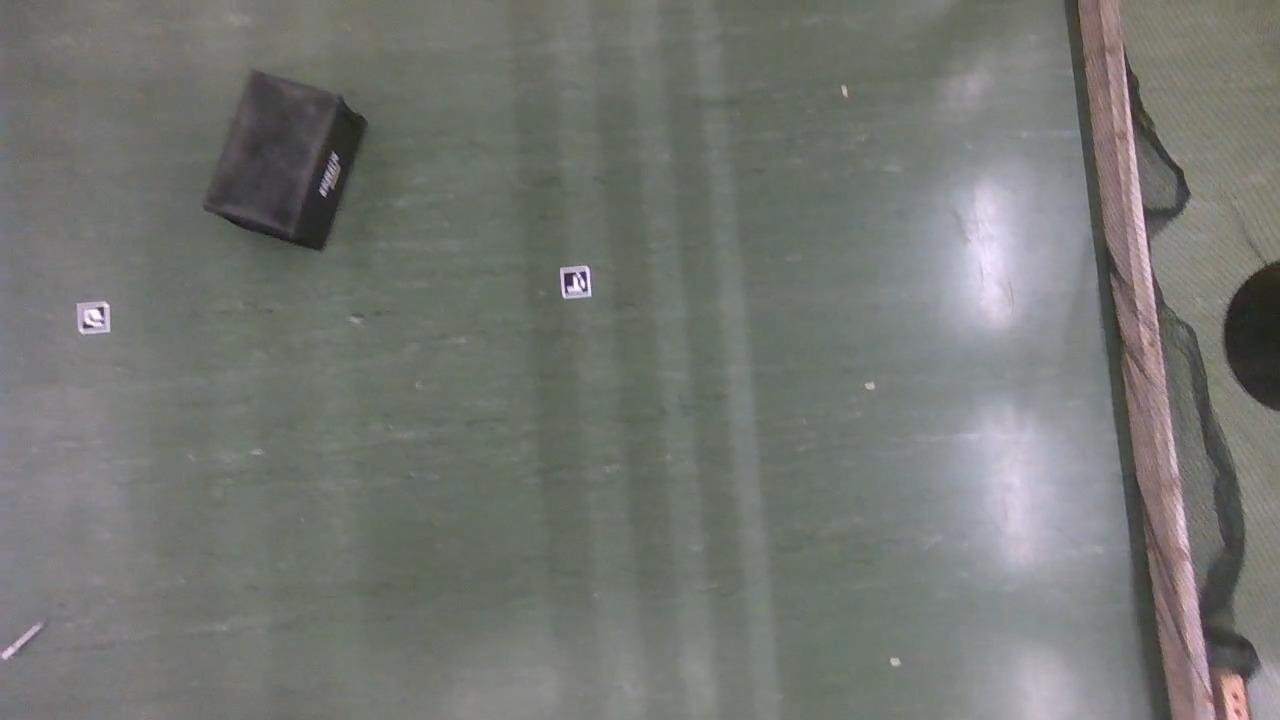probes: (0, 619, 45, 661)
rako: (202, 70, 368, 251)
